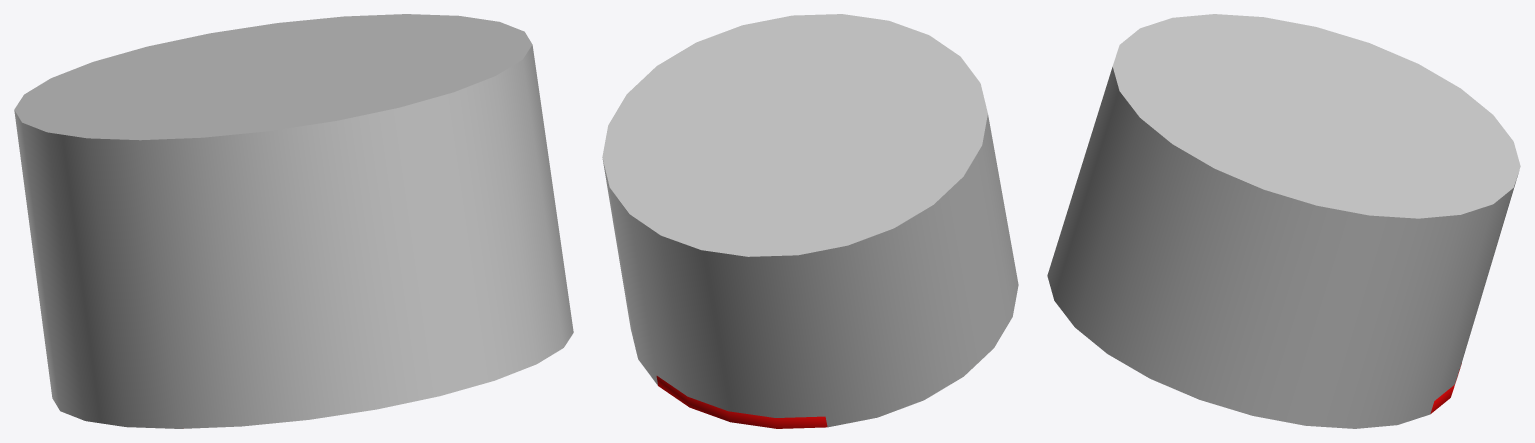
Rendered from MageHat.fbx.
The picture shows the model from 3 angles, left to right: view 1: azimuth 30°, elevation 25°; view 2: azimuth 150°, elevation 25°; view 3: azimuth 270°, elevation 25°; orthographic projection. The views are drawn at different scales.
Visible parts, largest first — view 1: MageHat_HairMask; view 2: MageHat_HairMask, MageHat; view 3: MageHat_HairMask.
Boxes of the visible parts, bbox=[...] form: MageHat_HairMask: bbox=[14, 14, 573, 428]; MageHat_HairMask: bbox=[602, 14, 1018, 427]; MageHat: bbox=[656, 376, 827, 428]; MageHat_HairMask: bbox=[1047, 14, 1520, 428].
Bounding box in the file's own units: 147 × 164 × 118.
